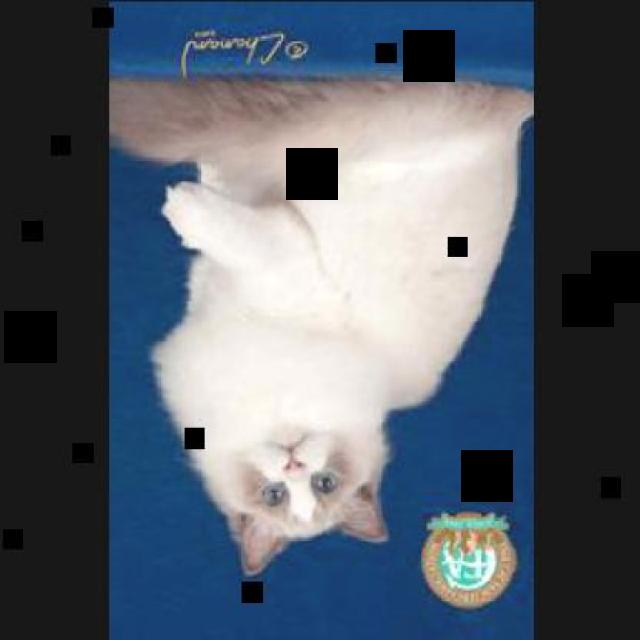unauthorized: (108, 72, 532, 577)
